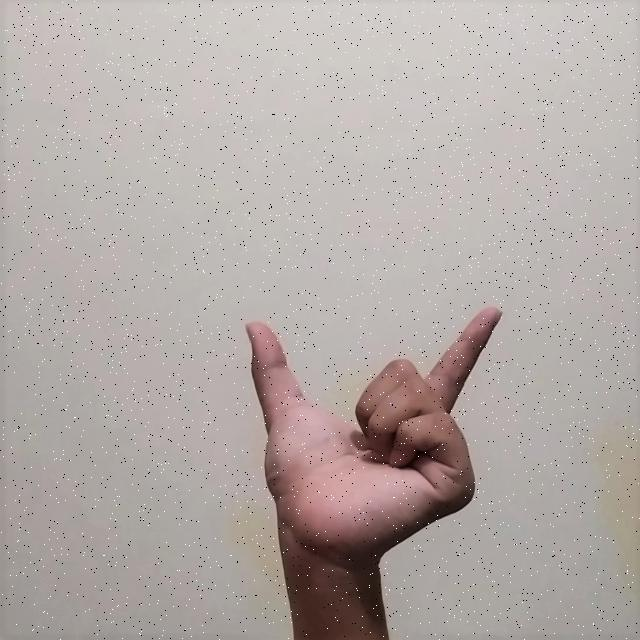U: (225, 297, 521, 574)
